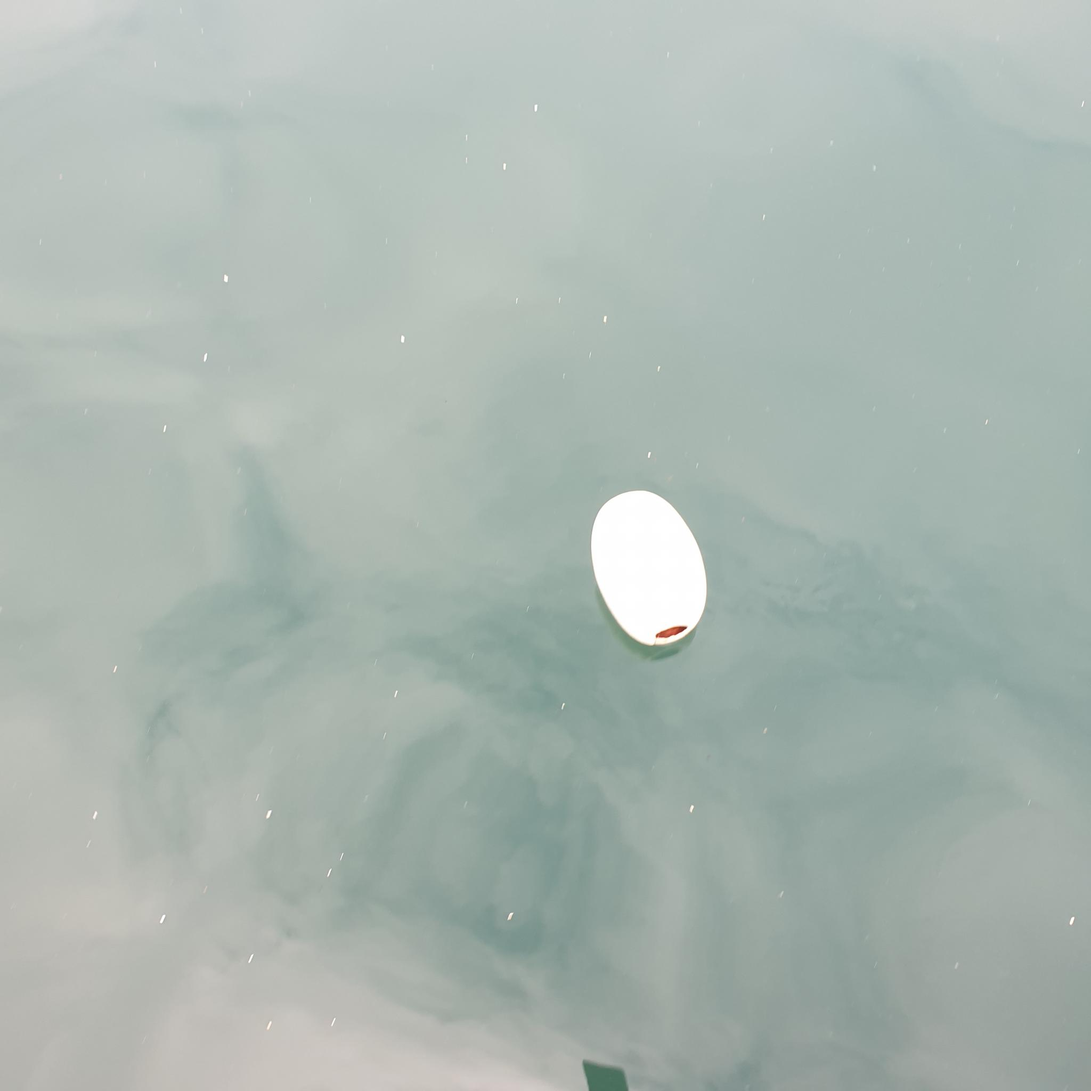sampah_terapung: (591, 491, 707, 647)
